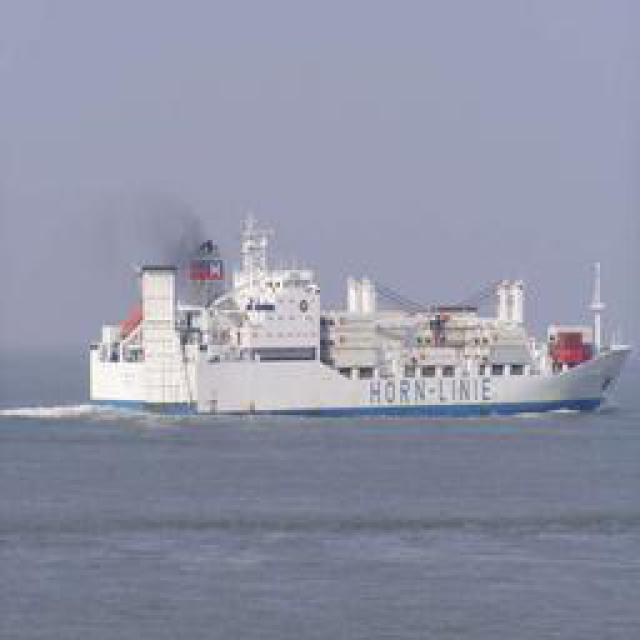Ship: (85, 254, 625, 417)
